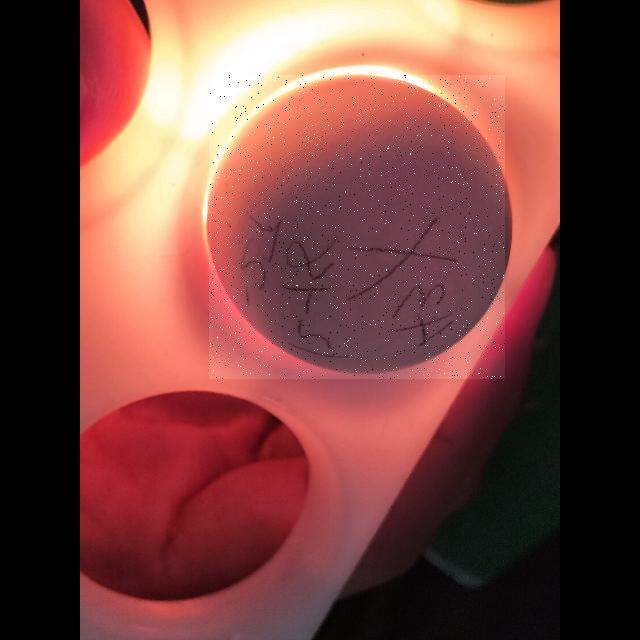Fertile: (209, 75, 505, 379)
